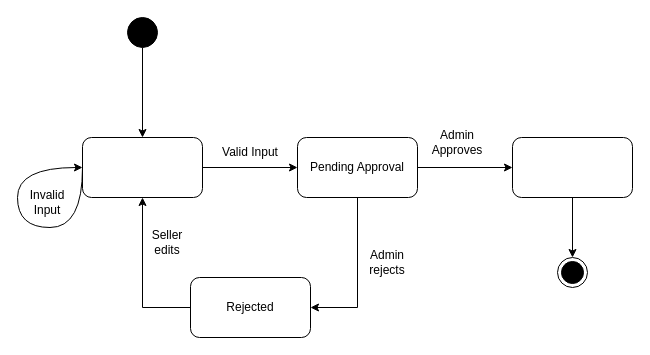
Image size: 650x355. Some labels were removed from this diagram. The box of each missing label's shape, as (x1, y1, x2, y2) in pixels:
Approved: (512, 136, 632, 198)
Draft: (82, 136, 202, 198)
